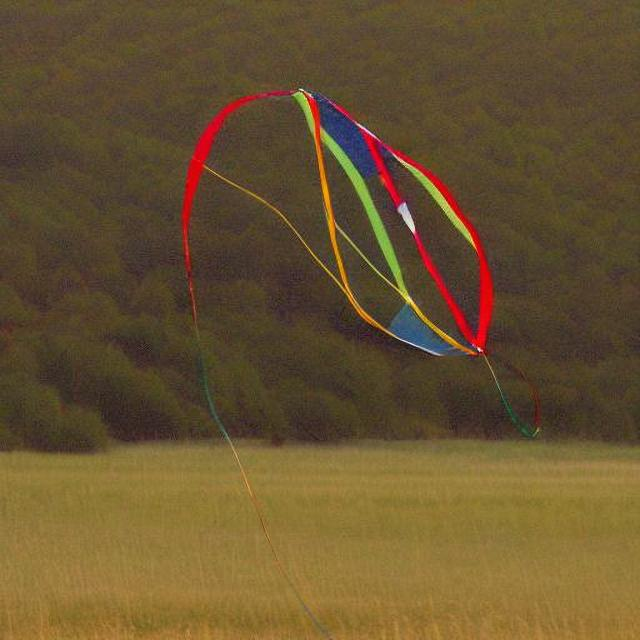floating object: (207, 81, 501, 373)
